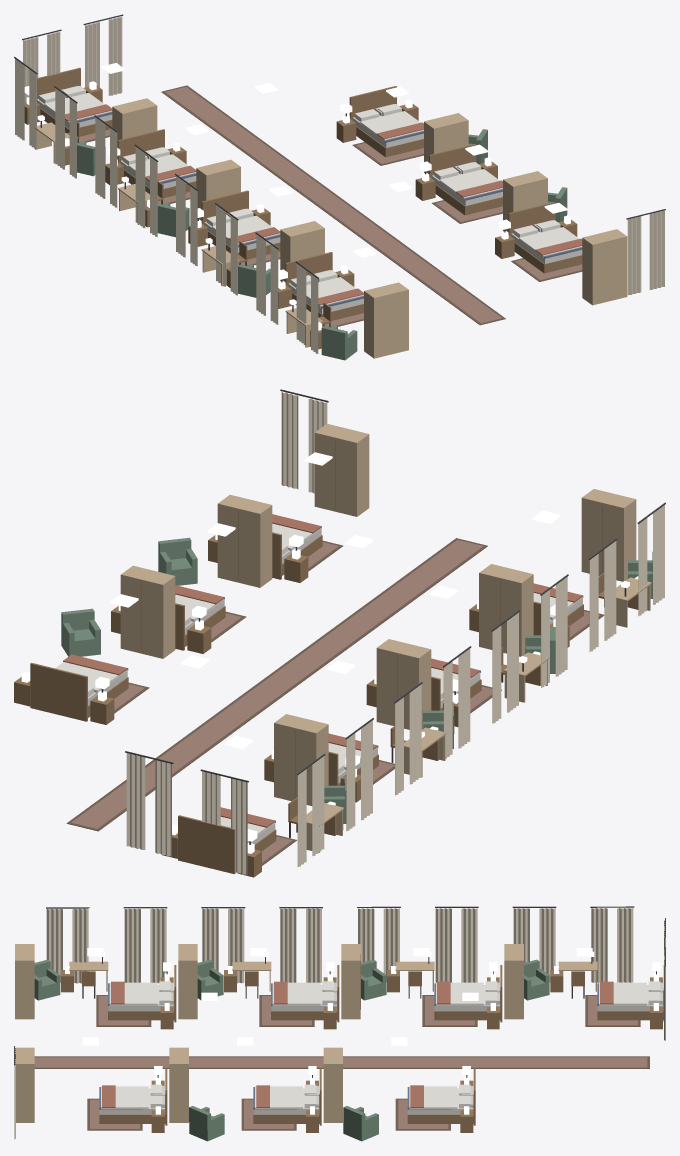
The model's file is fine-s3.glb.
3 views of the same model, one above another, from view 1: azimuth 30°, elevation 25°; view 2: azimuth 150°, elevation 25°; view 3: azimuth 270°, elevation 25° (orthographic). The views are drawn at different scales.
Parts seen in each view (by area): view 1: soft-s3, dresser.016, dresser.020, bed-frame.016, bed-frame.014, bed-frame.015, dresser.015, dresser.019, dresser.014, bed-frame.020, bed-frame.017, dresser.018 (+11 smaller); view 2: soft-s3, dresser.016, dresser.014, dresser.015, dresser.020, dresser.019, dresser.018, dresser.017, bed-frame.014, bed-frame.017, lounge-chair.012, lounge-chair.013 (+5 smaller); view 3: soft-s3, dresser.015, dresser.017, dresser.018, dresser.019, dresser.020, dresser.014, dresser.016, bed-frame.014, bed-frame.016, bed-frame.020, bed-frame.018 (+13 smaller).
Boxes of the visible parts, x1,y1,x2,y2 form: soft-s3: (14,14,665,353); dresser.016: (582,229,627,305); dresser.020: (364,282,408,358); bed-frame.016: (508,202,582,273); bed-frame.014: (349,86,423,157); bed-frame.015: (429,144,502,215); dresser.015: (503,171,547,231); dresser.019: (280,221,324,281); dresser.014: (424,113,468,173); bed-frame.020: (285,252,363,320); bed-frame.017: (37,67,112,136); dresser.018: (196,159,240,220); soft-s3: (55,389,665,875); dresser.016: (314,423,369,516); dresser.014: (120,565,175,658); dresser.015: (217,494,272,587); dresser.020: (581,489,636,581); dresser.019: (479,564,533,656); dresser.018: (376,639,431,729); dresser.017: (274,714,328,805); bed-frame.014: (30,662,128,721); bed-frame.017: (178,815,276,874); lounge-chair.012: (61,608,100,656); lounge-chair.013: (158,537,197,585); soft-s3: (14,906,665,1139); dresser.015: (169,1047,188,1122); dresser.017: (504,944,523,1019); dresser.018: (341,944,360,1019); dresser.019: (178,944,197,1019); dresser.020: (15,944,34,1019); dresser.014: (323,1047,342,1122); dresser.016: (15,1047,34,1122); bed-frame.014: (407,1068,475,1125); bed-frame.016: (99,1068,167,1125); bed-frame.020: (108,965,176,1022); bed-frame.018: (434,965,502,1022).
Bounding box in the file's own units: 11.54 × 2.61 × 20.07.
